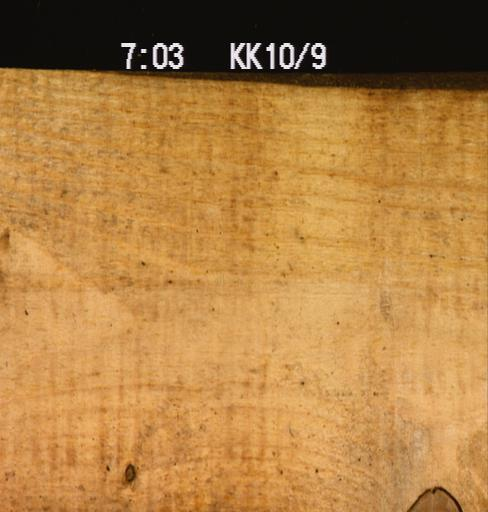dry_knot: (122, 461, 136, 483)
edge_knot: (405, 482, 462, 511)
wave: (106, 69, 487, 91)
